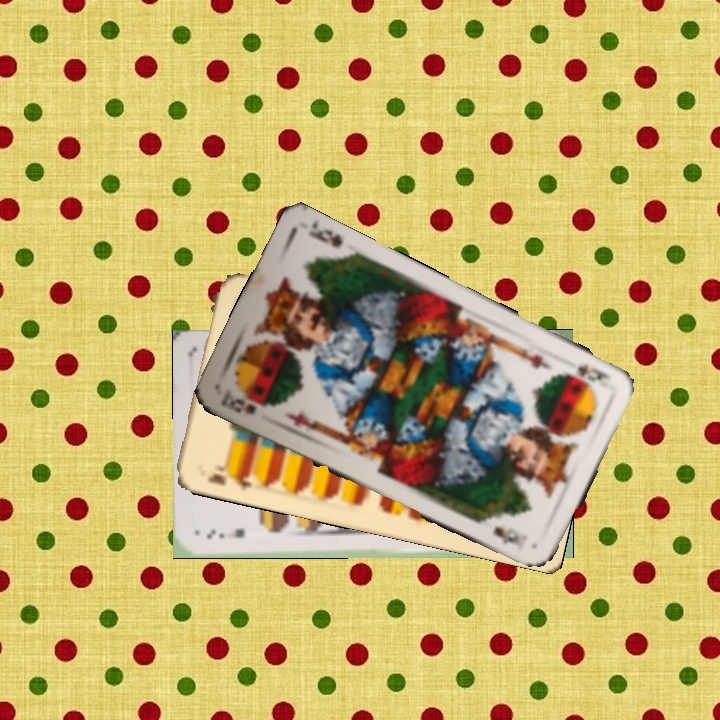E10: (203, 462, 255, 494)
E7: (203, 525, 248, 542)
SK: (559, 360, 614, 389), (216, 385, 259, 417)
